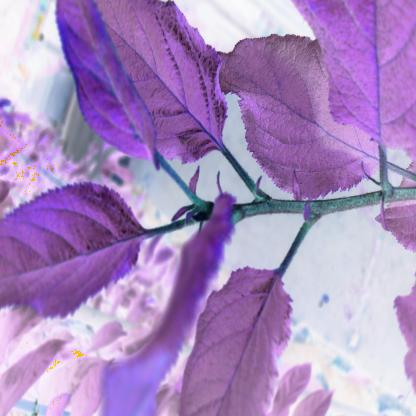apple leaf: (45, 2, 252, 169), (207, 30, 391, 210), (0, 173, 146, 347), (168, 252, 318, 416)
